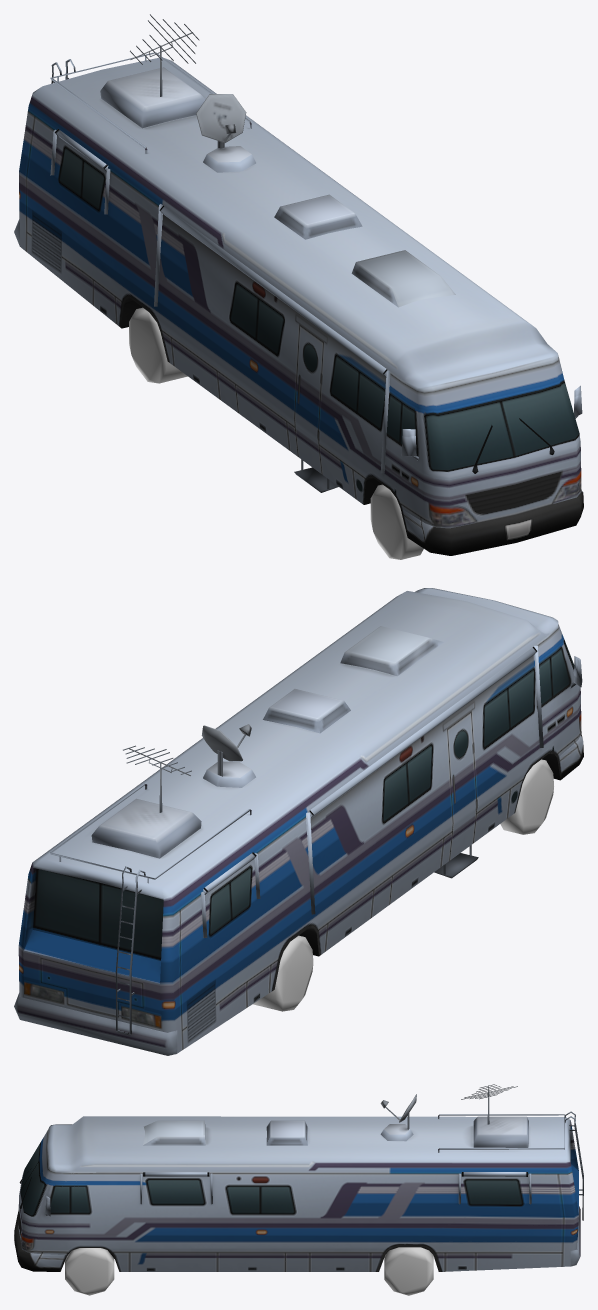
File: RV_Bus.fbx
The picture shows the model from 3 angles, top to bottom: view 1: azimuth 30°, elevation 25°; view 2: azimuth 150°, elevation 25°; view 3: azimuth 270°, elevation 25°; orthographic projection. The views are drawn at different scales.
Visible parts, largest first — view 1: RV_Bus, RV_Bus_Wheel_Rear_R, RV_Bus_Wheel_Front_R; view 2: RV_Bus, RV_Bus_Wheel_Rear_R, RV_Bus_Wheel_Front_R; view 3: RV_Bus, RV_Bus_Wheel_Rear_L, RV_Bus_Wheel_Front_L.
Boxes of the visible parts, x1,y1,x2,y2 form: RV_Bus: (14,14,583,555); RV_Bus_Wheel_Rear_R: (129,307,187,383); RV_Bus_Wheel_Front_R: (370,484,423,559); RV_Bus: (14,588,583,1055); RV_Bus_Wheel_Rear_R: (253,935,313,1011); RV_Bus_Wheel_Front_R: (500,759,553,834); RV_Bus: (14,1084,583,1271); RV_Bus_Wheel_Rear_L: (384,1247,433,1295); RV_Bus_Wheel_Front_L: (65,1248,114,1295).
Bounding box in the file's own units: 4.6 × 7.02 × 19.11.
